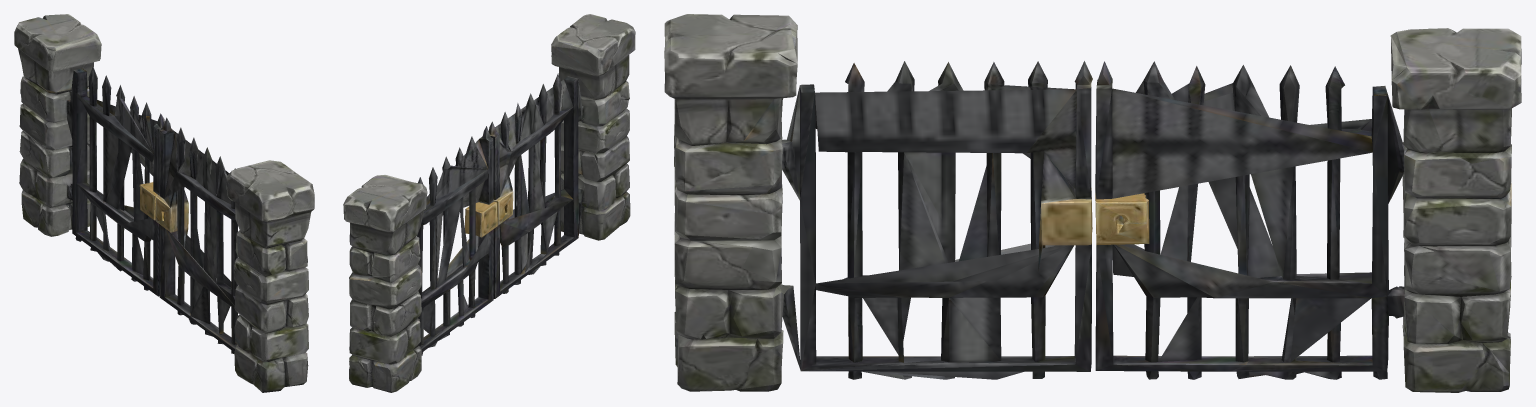
The model's file is vgate_3d.glb.
3 views of the same model, side by side, from view 1: azimuth 30°, elevation 25°; view 2: azimuth 150°, elevation 25°; view 3: azimuth 270°, elevation 25° (orthographic). The views are drawn at different scales.
Visible parts, largest first — view 1: Mesh_0; view 2: Mesh_0; view 3: Mesh_0.
Part boxes in pixels (bbox=[...]): Mesh_0: bbox=[14, 14, 314, 392]; Mesh_0: bbox=[343, 14, 635, 392]; Mesh_0: bbox=[664, 14, 1521, 392].
Size of the model in its own units: 0.3686 by 1.33 by 3.
1 material, 1 textured.
